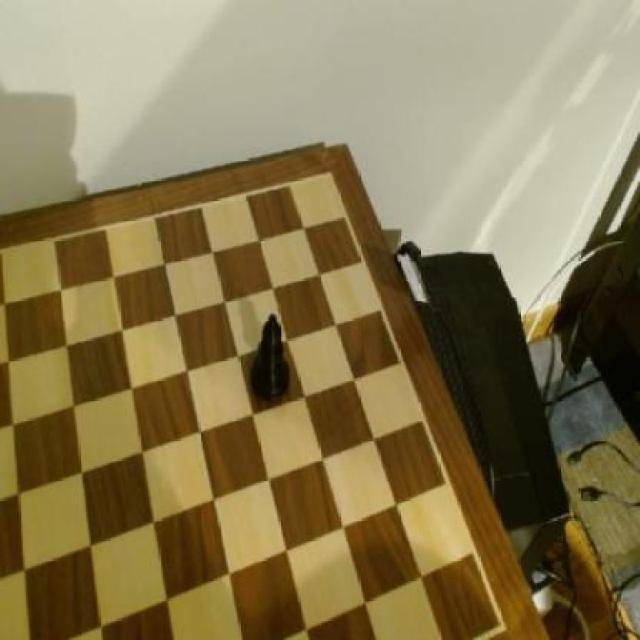bishop: (248, 310, 292, 412)
